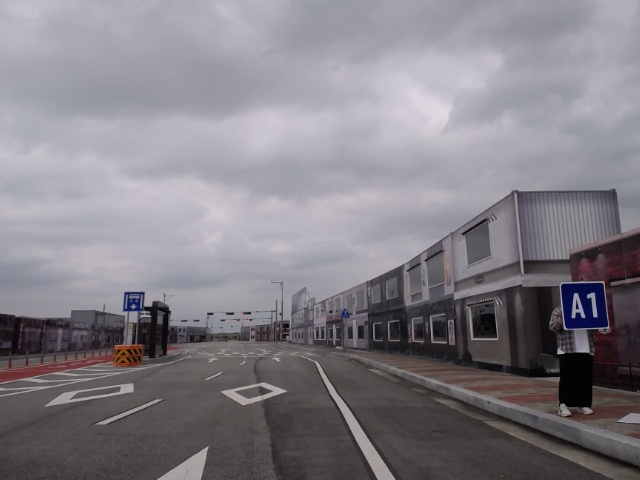delivery_a1: (561, 281, 610, 330)
